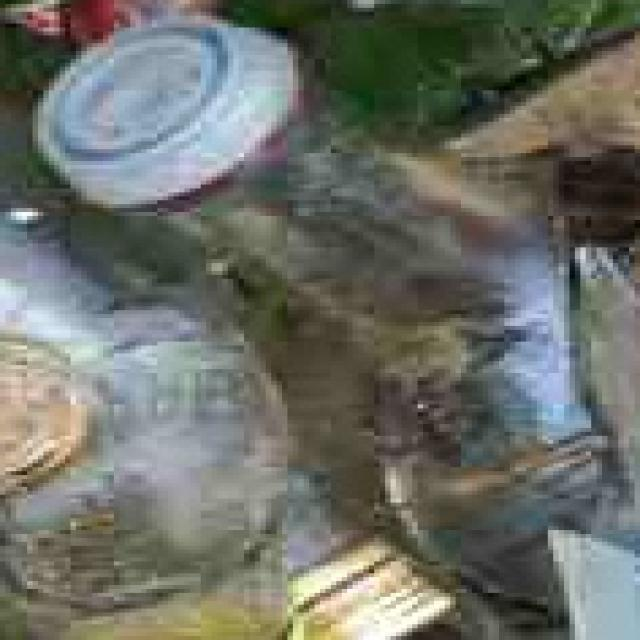kim_loai: (38, 16, 298, 206), (290, 542, 461, 640), (0, 342, 92, 493)
thuy_tinh: (168, 90, 640, 638)
